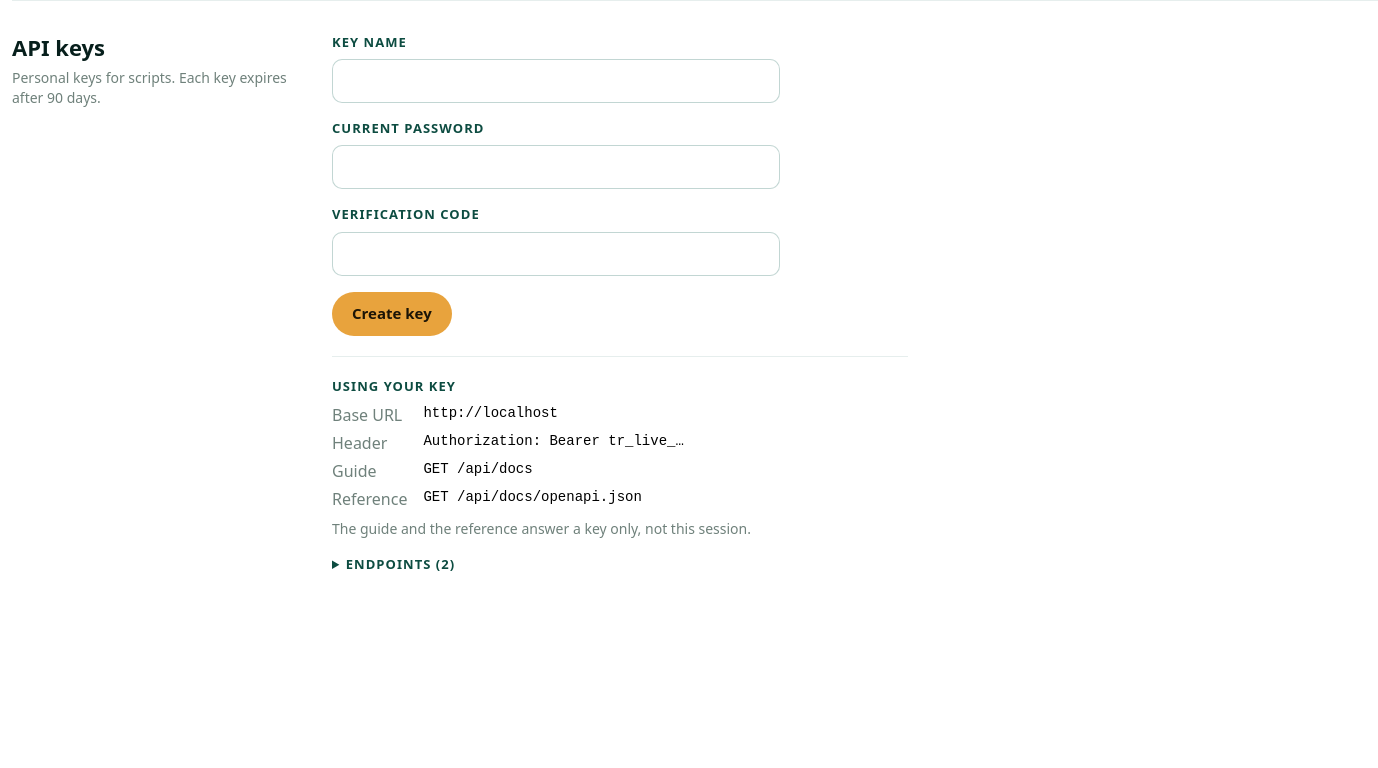
Test case: RFC-82 R7 ApiKeysSection › maps AUTH_INVALID_CREDENTIALS to its message on a failed create
Type "script" into the field labelled "Key name" at {"x": 556, "y": 81}, box 332,59 -> 780,103
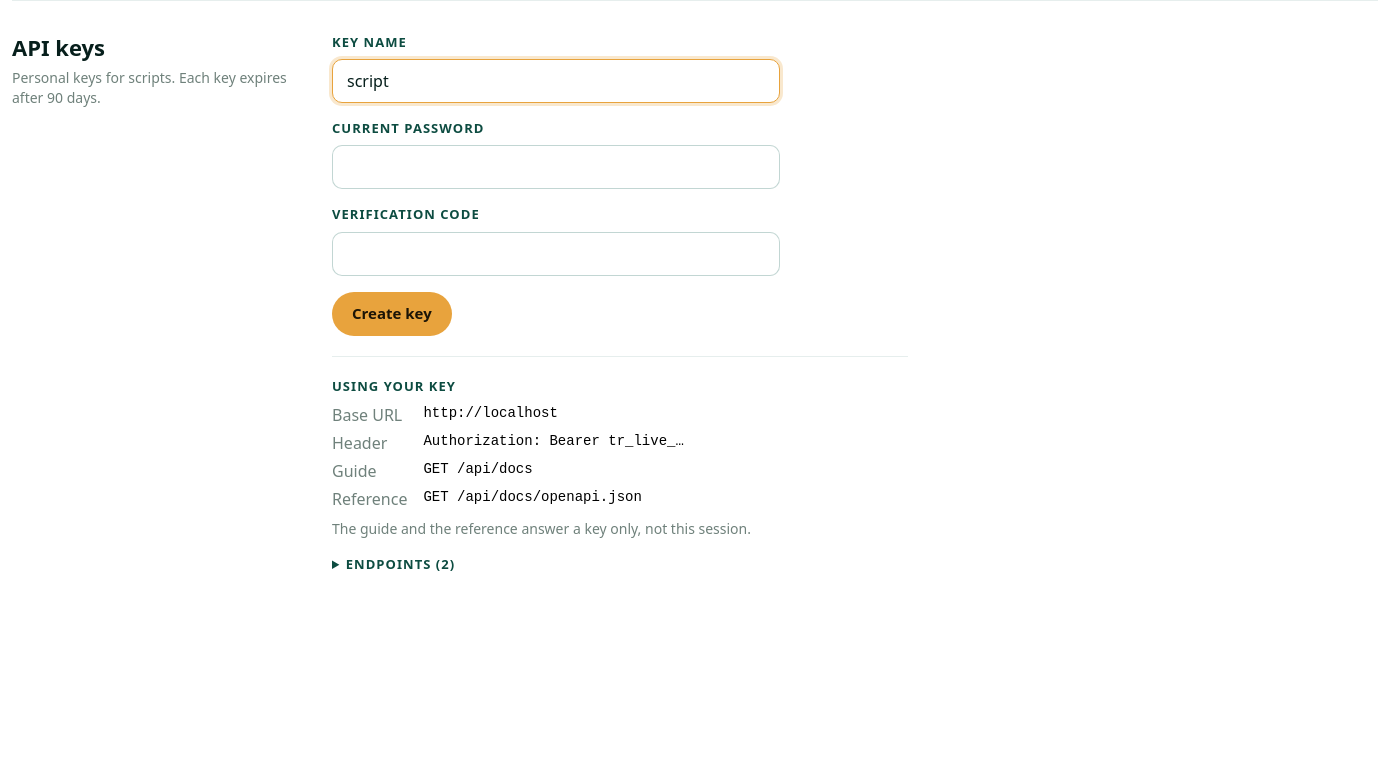
Type "pw" into the password field labelled "Current password" at {"x": 556, "y": 167}, box 332,145 -> 780,189
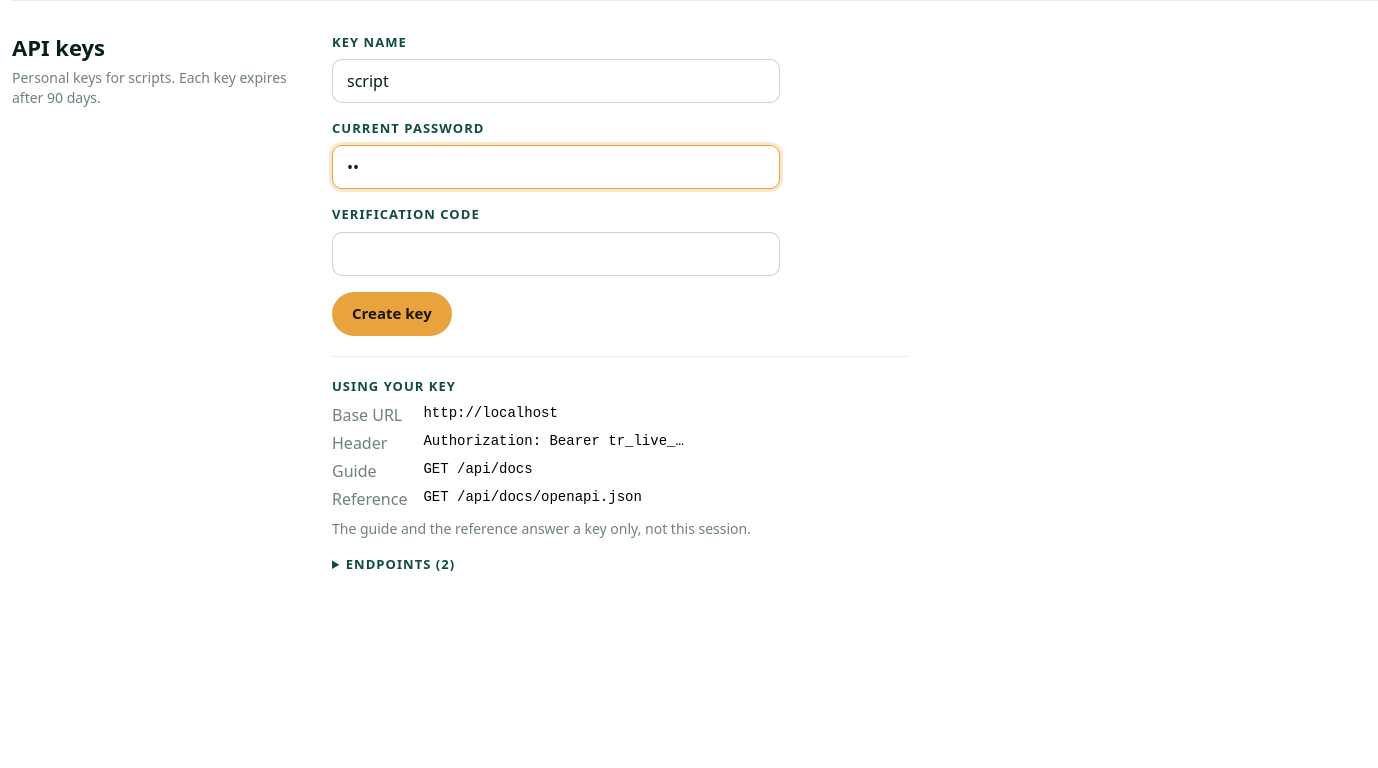
Type "123456" into the field labelled "Verification code" at {"x": 556, "y": 254}, box 332,232 -> 780,276
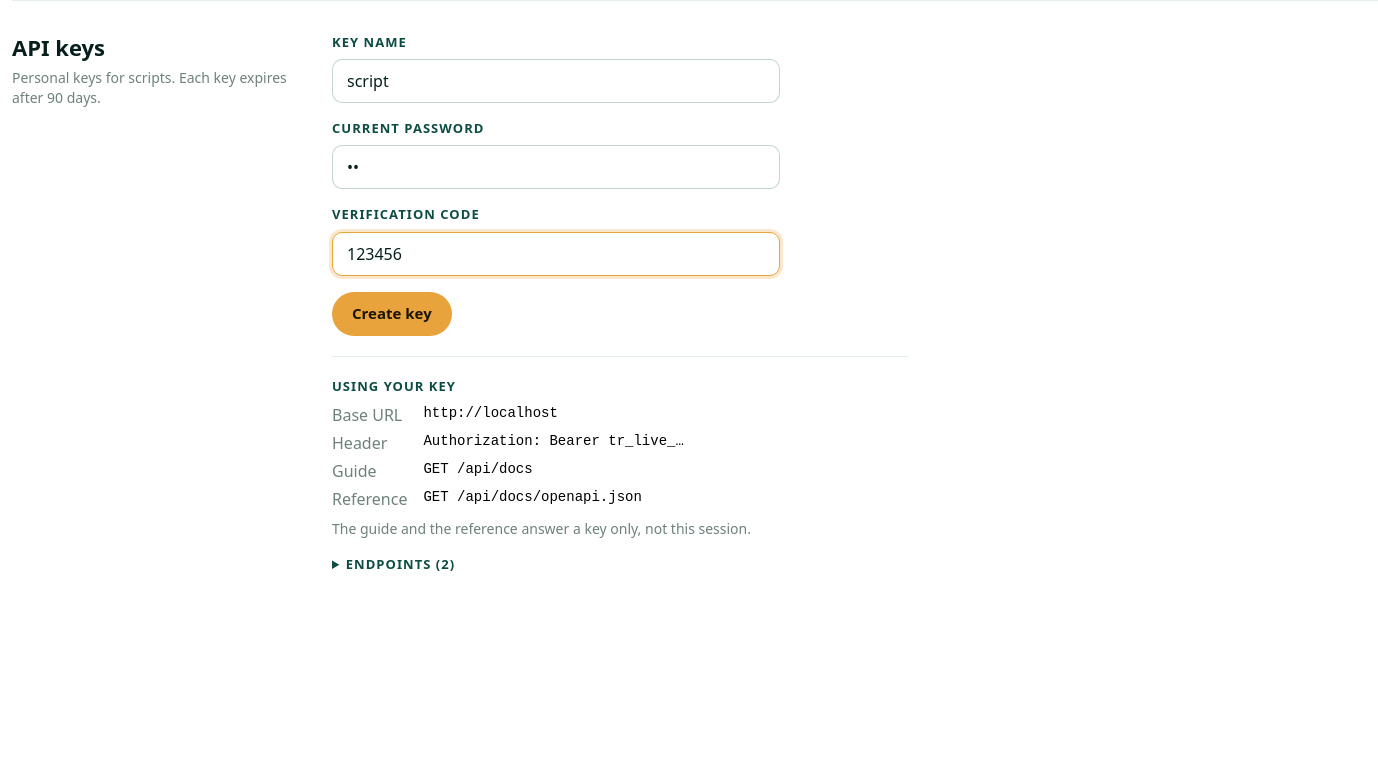
Click the button "Create key" at {"x": 392, "y": 314}, box 332,292 -> 452,336
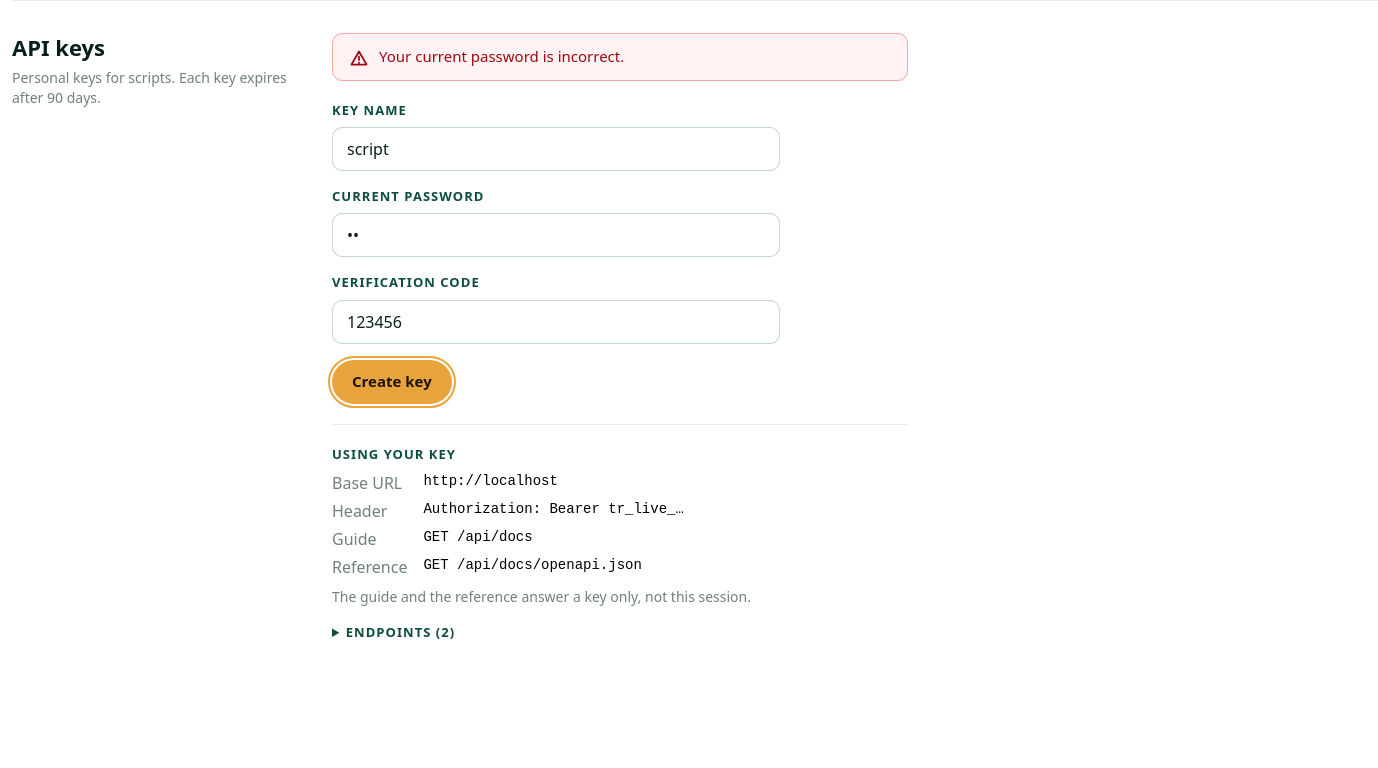
Now the text "Your current password is incorrect." is shown, box 379,46 -> 624,68
